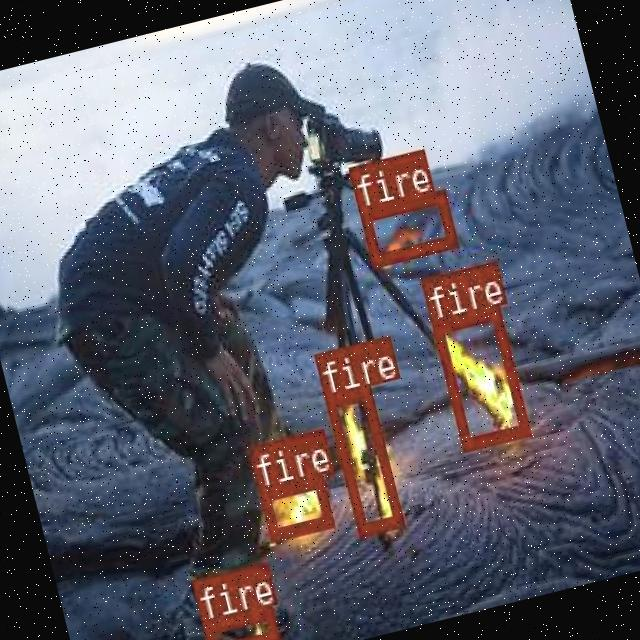fire: (428, 303, 526, 448), (322, 384, 402, 536), (358, 188, 457, 266), (257, 474, 332, 540), (200, 603, 277, 640)
